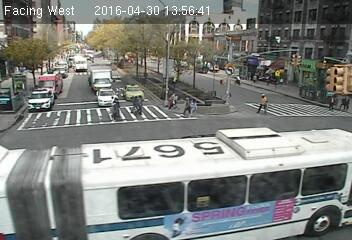neg: (140, 61, 156, 81), (83, 75, 98, 95), (293, 83, 306, 100), (231, 72, 243, 88), (189, 130, 201, 146), (89, 48, 100, 63), (26, 140, 36, 154), (291, 111, 301, 124), (225, 120, 234, 132), (56, 107, 64, 119), (53, 58, 61, 69), (218, 90, 225, 100), (189, 68, 196, 76), (275, 70, 281, 78), (40, 85, 45, 93)
pos: (102, 94, 121, 120), (252, 91, 269, 114), (128, 92, 145, 115), (186, 96, 203, 118), (179, 95, 194, 115), (165, 91, 180, 111), (326, 93, 340, 112), (341, 94, 351, 112), (250, 71, 260, 83)
